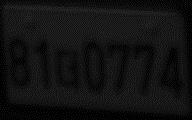0: (83, 40, 107, 94)
1: (32, 36, 55, 92)
4: (159, 45, 188, 104)
7: (130, 43, 159, 96), (104, 40, 132, 93)
8: (6, 34, 33, 88)
더: (55, 48, 82, 93)
